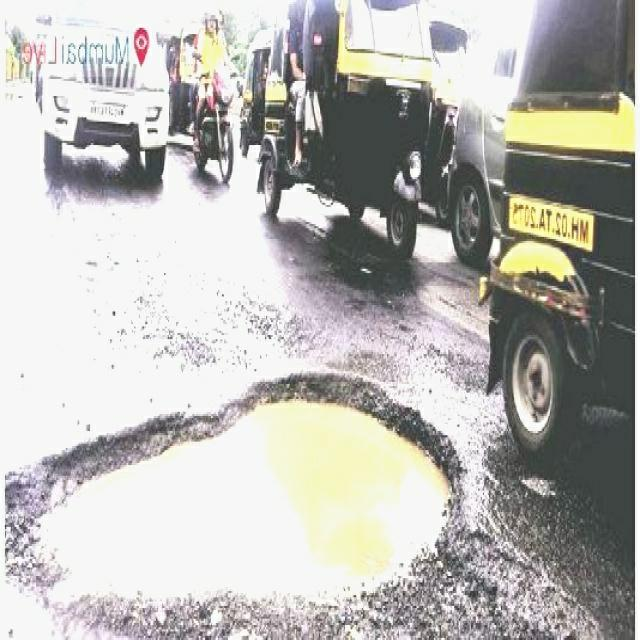Pothole: (4, 367, 467, 638)
